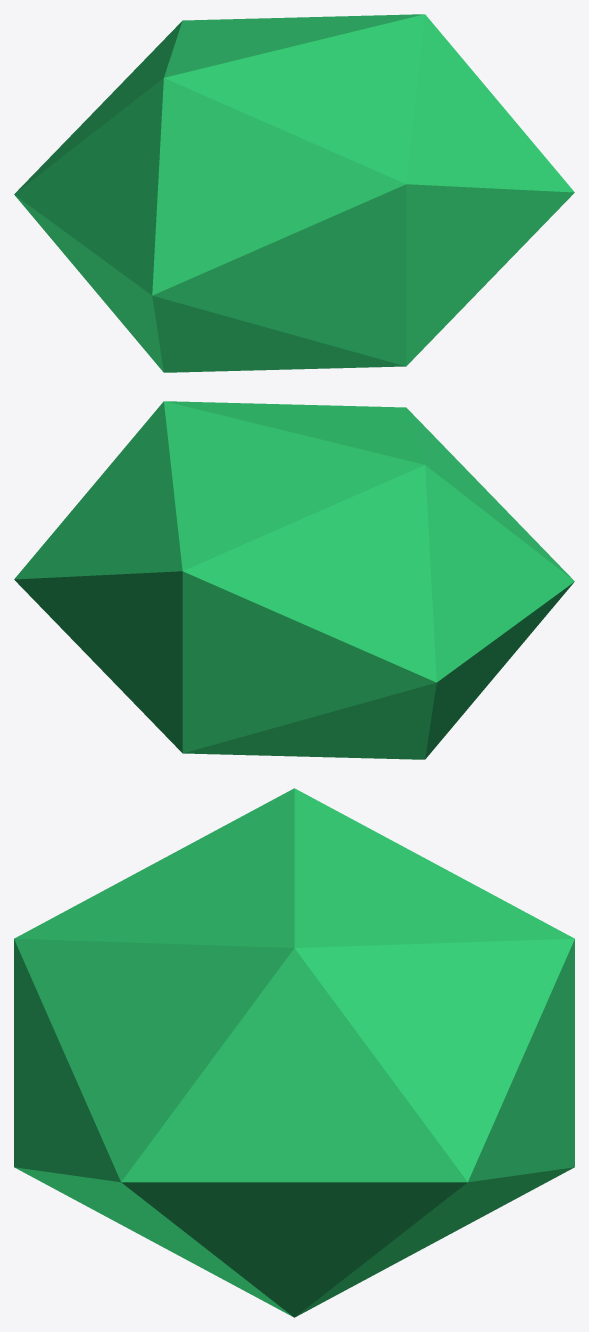
File: plant_bush.glb
3 renders of one model, top to bottom at view 1: azimuth 30°, elevation 25°; view 2: azimuth 150°, elevation 25°; view 3: azimuth 270°, elevation 25°, orthographic. The views are drawn at different scales.
Parts seen in each view (by area): view 1: Kenney_Plant_Bush; view 2: Kenney_Plant_Bush; view 3: Kenney_Plant_Bush.
Boxes of the visible parts, x1=… form: Kenney_Plant_Bush: x1=14, y1=14, x2=574, y2=372; Kenney_Plant_Bush: x1=14, y1=401, x2=574, y2=759; Kenney_Plant_Bush: x1=14, y1=788, x2=574, y2=1317.
Bounding box in the file's own units: 0.9187 × 0.6125 × 0.8421.
